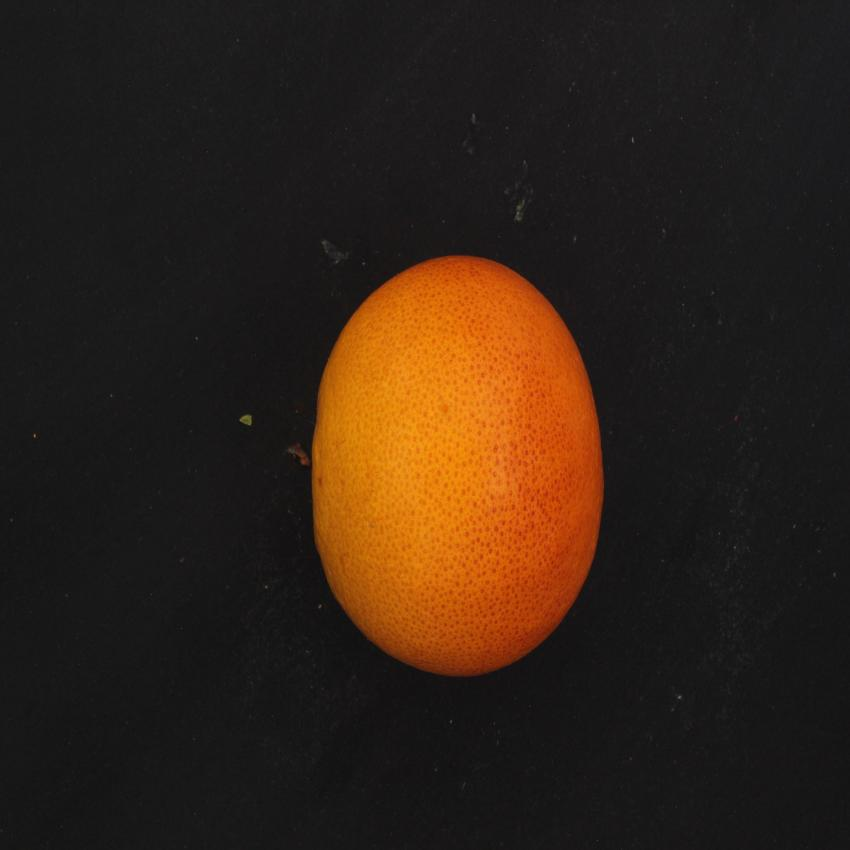Buen estado: (304, 242, 614, 691)
